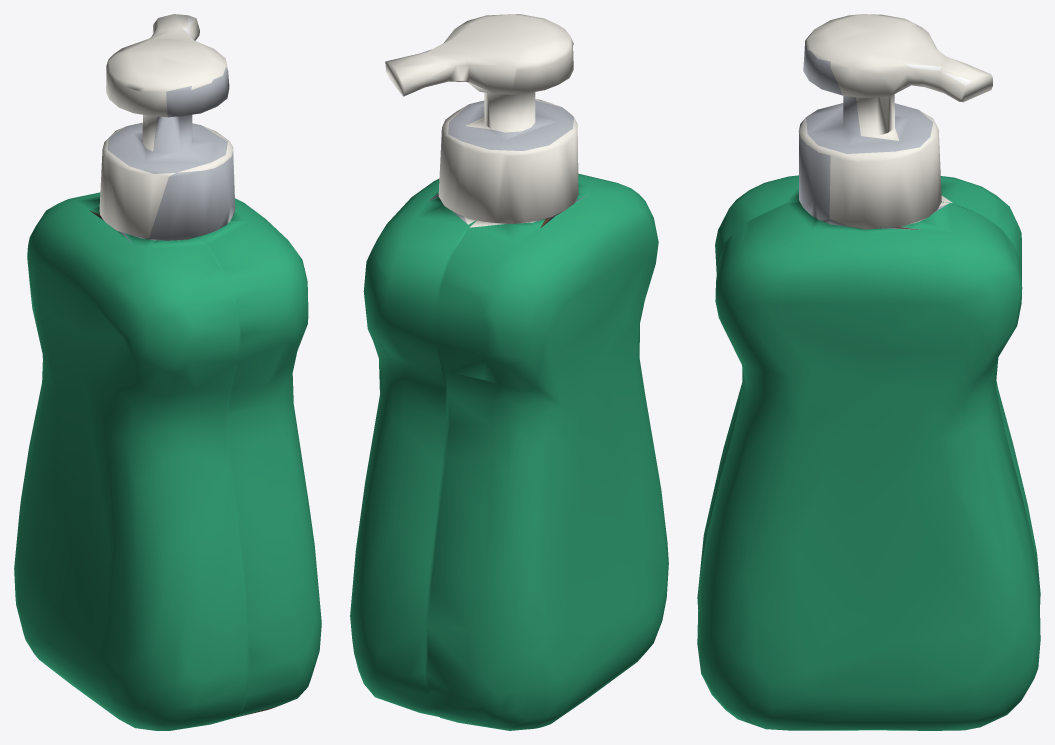
Rendered from SM_detergent_pump.fbx.
3 views of the same model, side by side, from view 1: azimuth 30°, elevation 25°; view 2: azimuth 150°, elevation 25°; view 3: azimuth 270°, elevation 25° (orthographic). The views are drawn at different scales.
Visible parts, largest first — view 1: SM_detergent_pump; view 2: SM_detergent_pump; view 3: SM_detergent_pump.
Boxes of the visible parts, bbox=[...] form: SM_detergent_pump: bbox=[14, 14, 321, 730]; SM_detergent_pump: bbox=[350, 14, 668, 730]; SM_detergent_pump: bbox=[697, 14, 1040, 730].
Size of the model in its own units: 11 by 32 by 15.2.
1 material, 1 textured.
